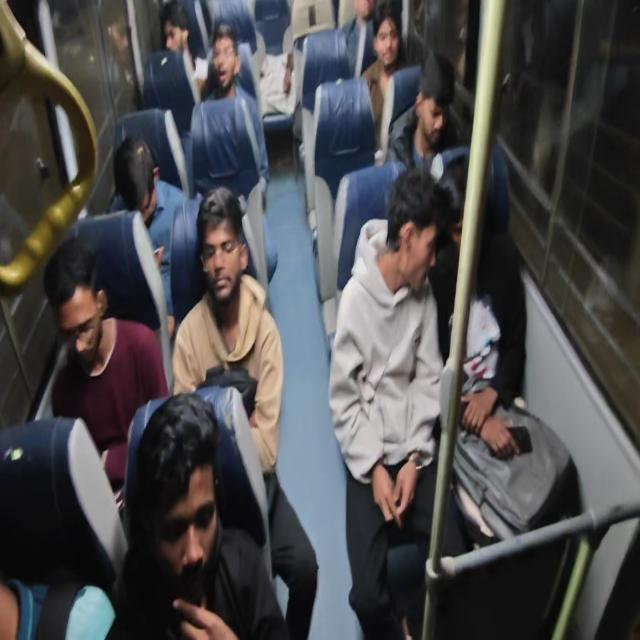person: (127, 371, 217, 592), (42, 229, 110, 381), (196, 173, 250, 327), (439, 153, 492, 274), (383, 159, 434, 281), (113, 127, 158, 239), (413, 54, 452, 150), (160, 0, 196, 72), (206, 18, 237, 95), (374, 2, 405, 75)
